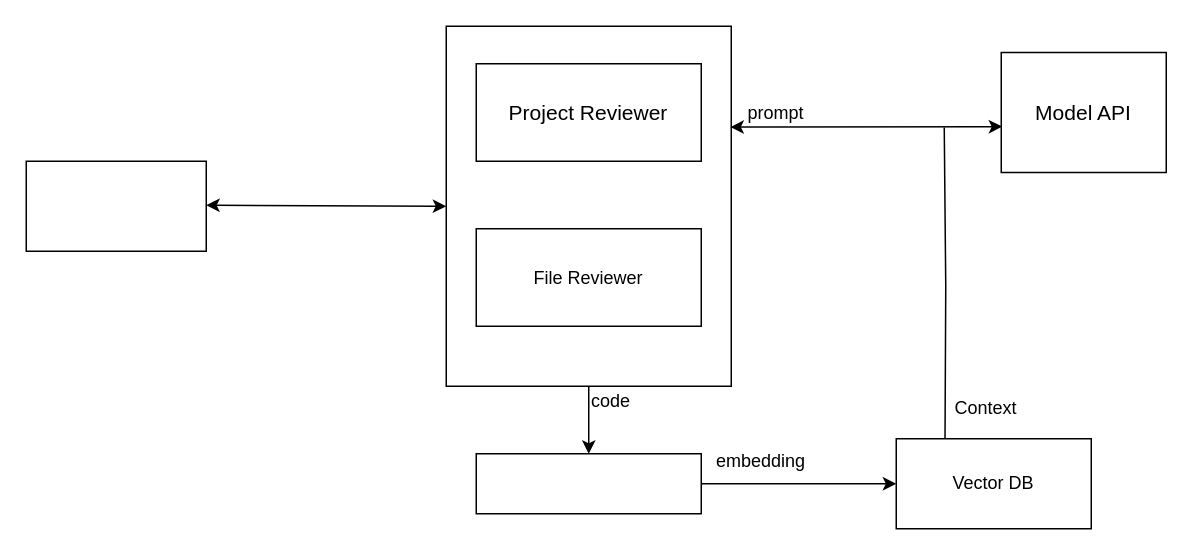
Some shapes in this 1193 by 555 pixel diagram are drawn without their labels. The shapes that lost their labels are listed below. From the top down, each one's centre as x and y in pixels, then its label:
At [115,205]: "Telegram Bot".
At [588,483]: "Embedder".
